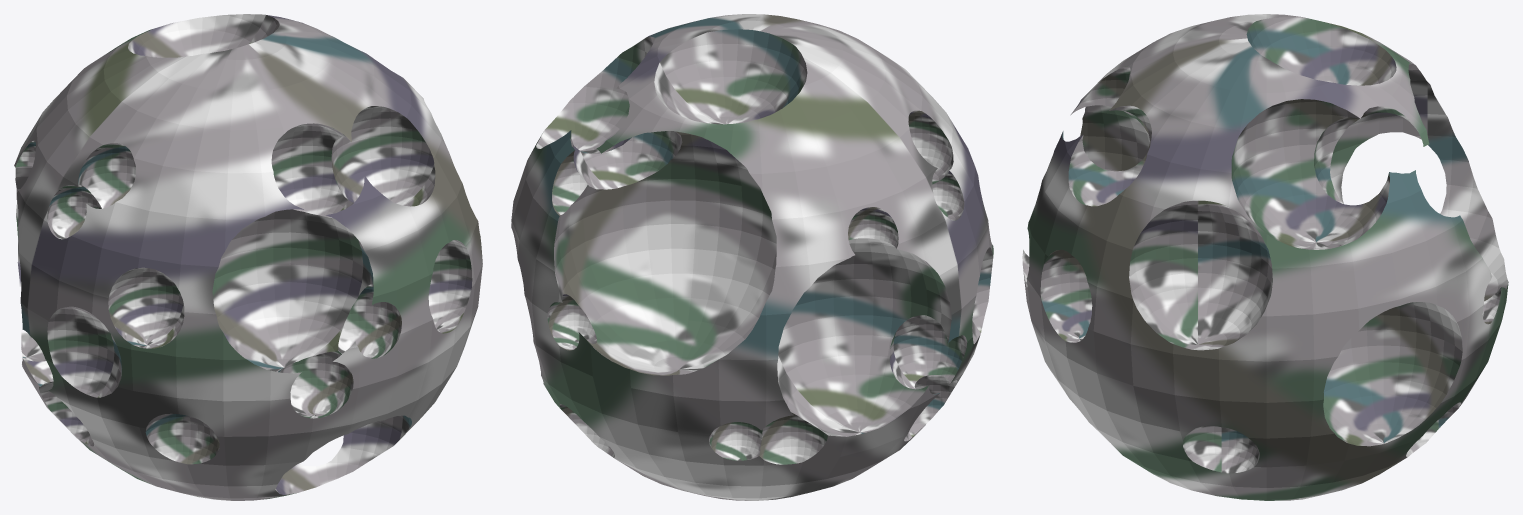
Rendered from TexturedMeteorcolorful.fbx.
3 renders of one model, left to right at view 1: azimuth 30°, elevation 25°; view 2: azimuth 150°, elevation 25°; view 3: azimuth 270°, elevation 25°, orthographic.
Parts seen in each view (by area): view 1: Meteor; view 2: Meteor; view 3: Meteor.
Part boxes in pixels (left/top/right/bottom): Meteor: left=14, top=14, right=482, bottom=500; Meteor: left=511, top=14, right=993, bottom=500; Meteor: left=1022, top=14, right=1508, bottom=500.
Size of the model in its own units: 94.39 by 93.96 by 93.83.
Materials: 1 (1 with a texture image).
